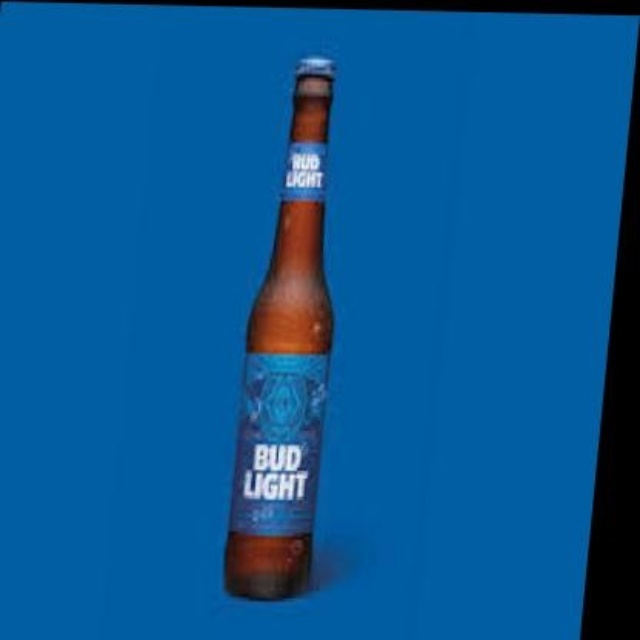trash: (226, 57, 332, 598)
